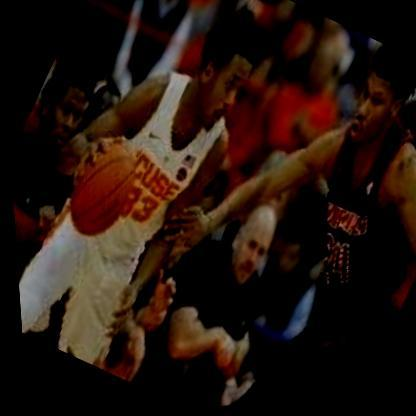basketball: (41, 126, 160, 257)
